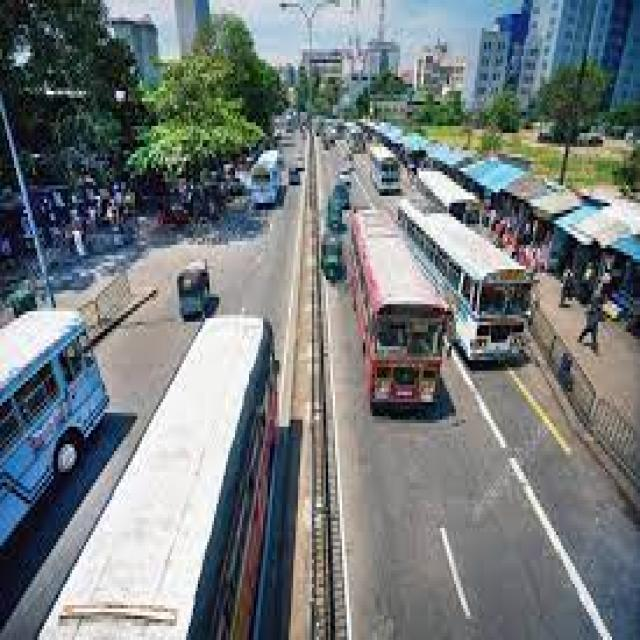bus: (42, 315, 275, 640), (0, 315, 107, 549), (398, 199, 528, 360), (349, 210, 447, 413), (251, 150, 279, 206), (370, 147, 398, 196)
person: (577, 294, 600, 353), (559, 269, 570, 308)
three wheeler: (177, 262, 216, 322), (321, 238, 340, 280), (328, 192, 340, 234)
